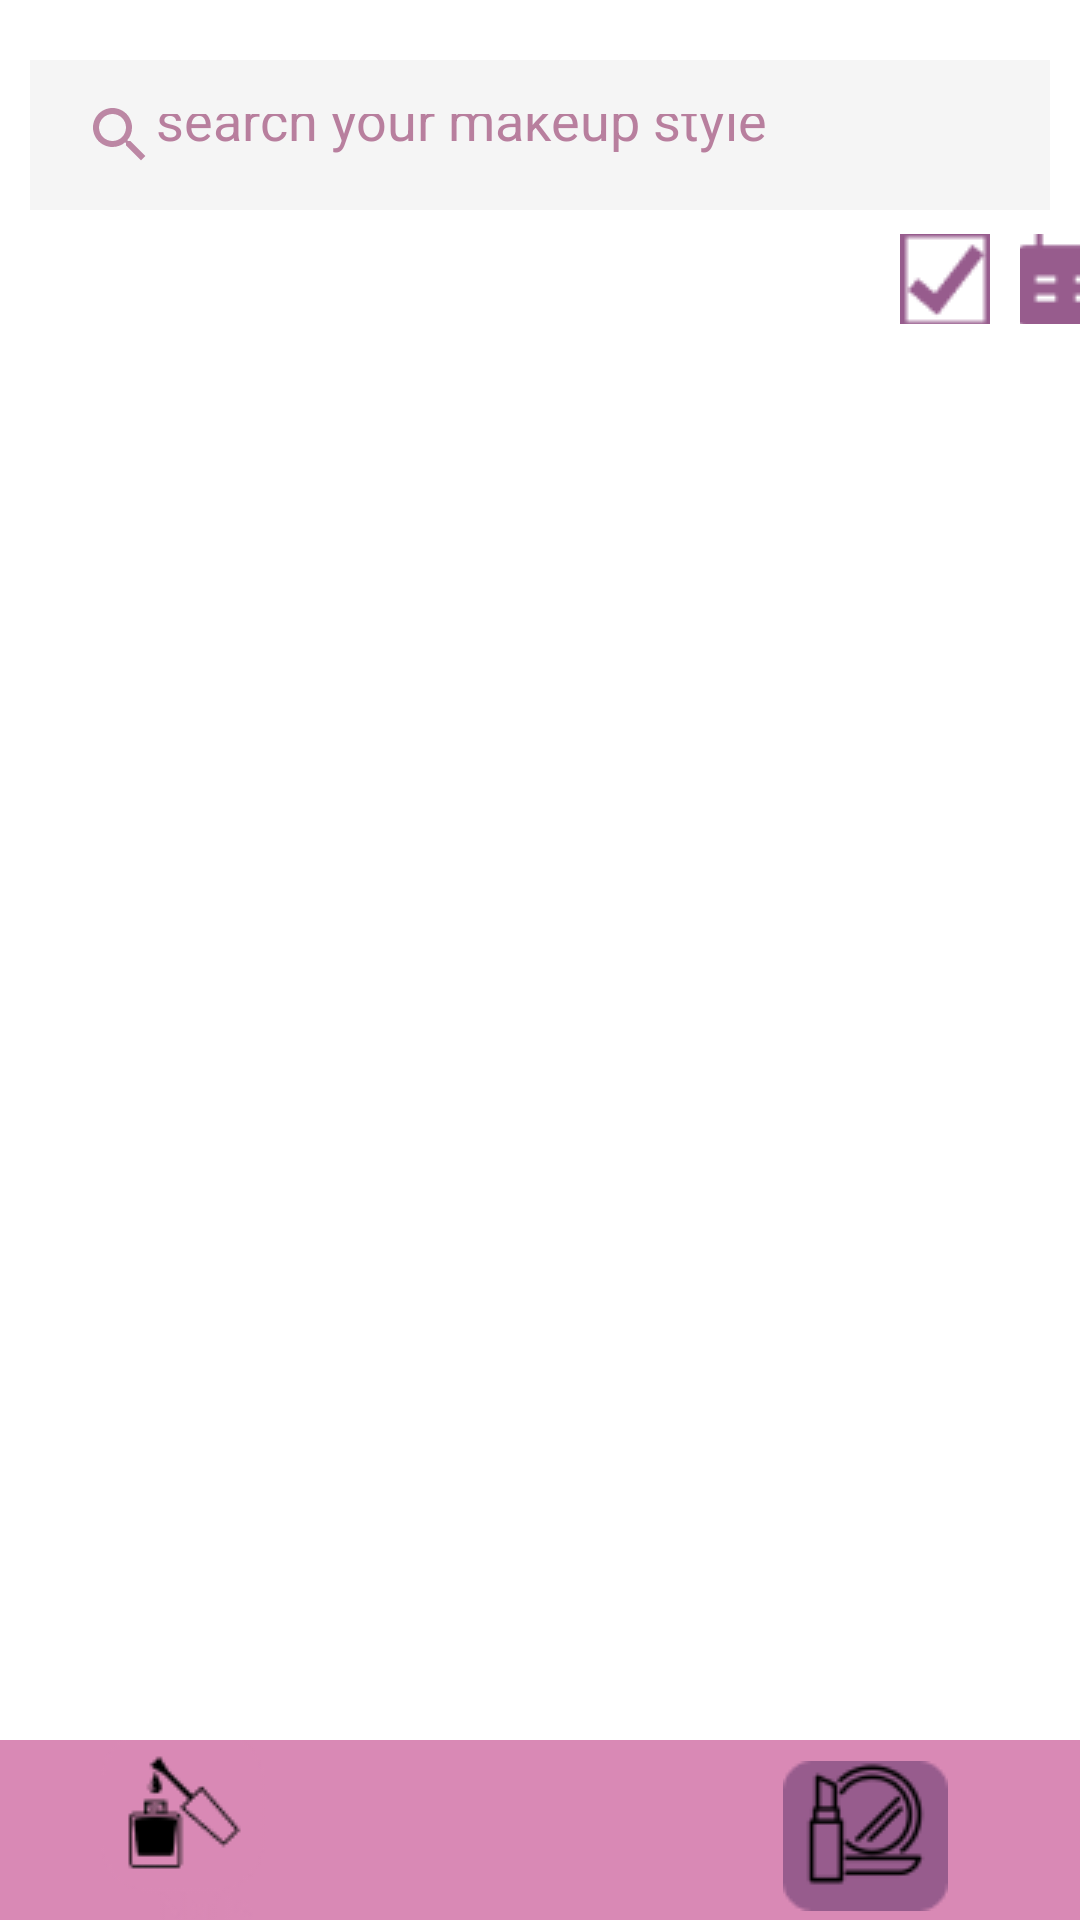

Screen size 1080*1920. Icon name, then its center in pixels as (x=x, y=y):
makeupdr: (x=865, y=1836)
